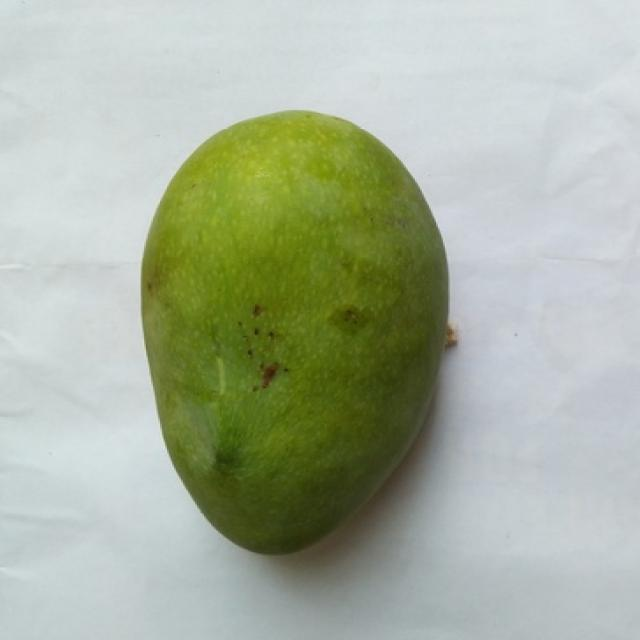Mango: (142, 111, 448, 553)
